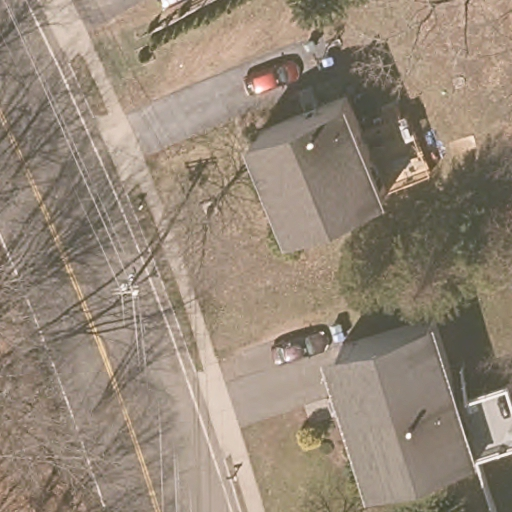DT: (112, 273, 154, 298)
